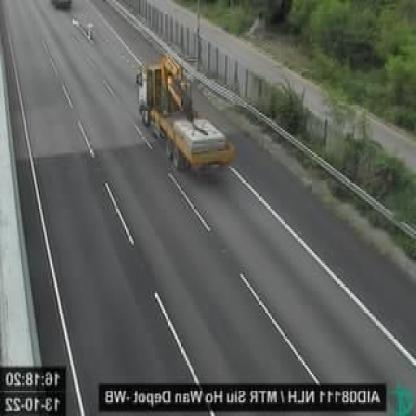Truck: (137, 55, 236, 175)
